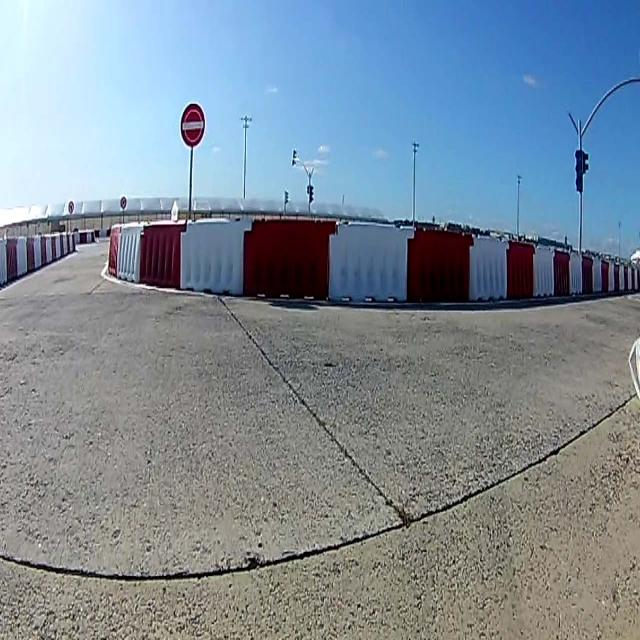girisyok: (180, 102, 206, 148)
